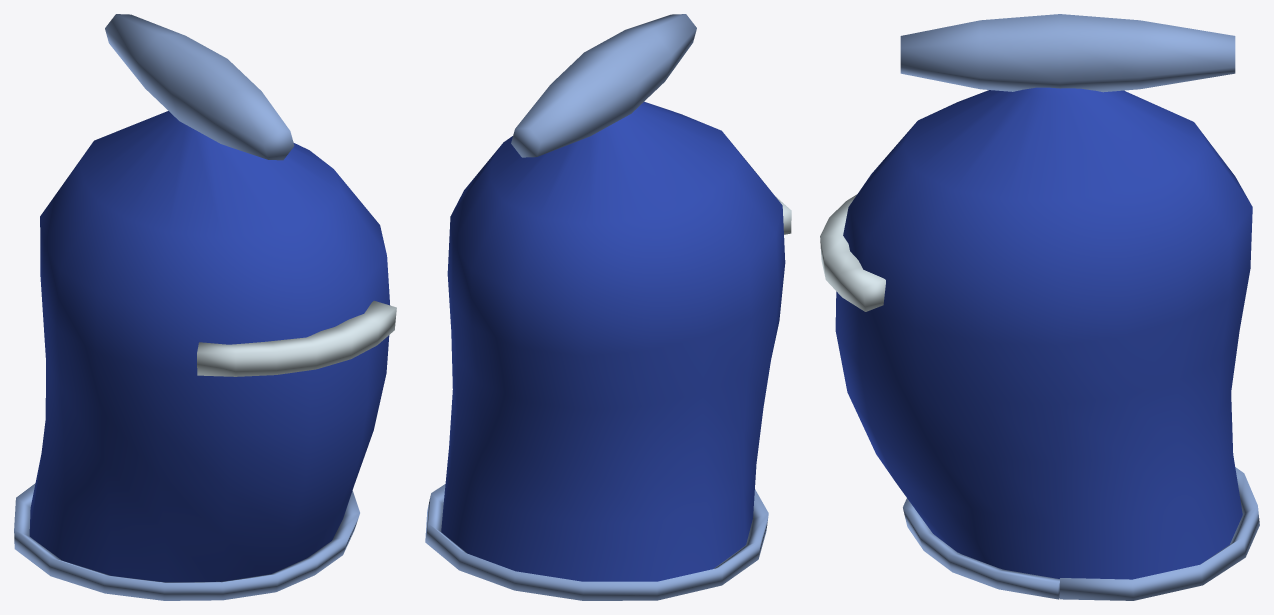
Rendered from stardust_armor_head.glb.
The picture shows the model from 3 angles, left to right: view 1: azimuth 30°, elevation 25°; view 2: azimuth 150°, elevation 25°; view 3: azimuth 270°, elevation 25°; orthographic projection. The views are drawn at different scales.
Parts seen in each view (by area): view 1: stardust_armor_head; view 2: stardust_armor_head; view 3: stardust_armor_head.
Part boxes in pixels (x1=…): stardust_armor_head: x1=14, y1=14, x2=396, y2=600; stardust_armor_head: x1=425, y1=14, x2=791, y2=600; stardust_armor_head: x1=820, y1=14, x2=1259, y2=600.
Size of the model in its own units: 0.2317 by 0.3521 by 0.276.
